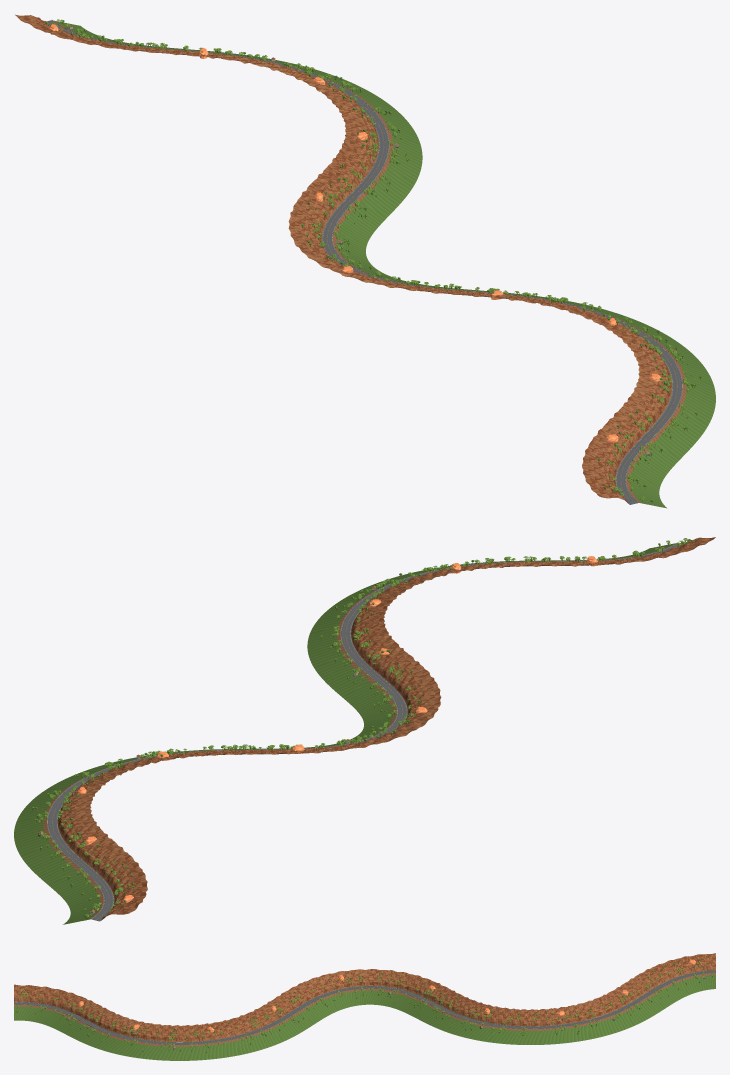
Rendered from roadCourse.glb.
The picture shows the model from 3 angles, top to bottom: view 1: azimuth 30°, elevation 25°; view 2: azimuth 150°, elevation 25°; view 3: azimuth 270°, elevation 25°; orthographic projection. The views are drawn at different scales.
Visible parts, largest first — view 1: RoadsideTerrain.008, RoadsideTerrain.018, RoadsideTerrain.009, RoadsideTerrain.019, RoadsideTerrain.007, RoadsideTerrain.017, RoadsideTerrain.020, RoadsideTerrain.010, RoadsideTerrain.016, RoadsideTerrain.006, RoadsideTerrain.015, RoadsideTerrain.005 (+2 smaller); view 2: RoadsideTerrain.003, RoadsideTerrain.002, RoadsideTerrain.013, RoadsideTerrain.012, RoadsideTerrain.014, RoadsideTerrain.004, RoadsideTerrain.011, RoadsideTerrain.001, RoadsideTerrain.015, RoadsideTerrain.005, RoadsideTerrain.006, RoadsideTerrain.016 (+2 smaller); view 3: RoadsideTerrain.015, RoadsideTerrain.006, RoadsideTerrain.005, RoadsideTerrain.016, RoadsideTerrain.011, RoadsideTerrain.004, RoadsideTerrain.014, RoadsideTerrain.001, RoadsideTerrain.020, RoadsideTerrain.010, RoadsideTerrain.007, RoadsideTerrain.017 (+8 smaller).
Part boxes in pixels (box(x1,y1,x2,y2)): RoadsideTerrain.008: box(317, 149, 414, 217); RoadsideTerrain.018: box(610, 390, 708, 458); RoadsideTerrain.009: box(290, 178, 386, 244); RoadsideTerrain.019: box(585, 418, 680, 486); RoadsideTerrain.007: box(341, 121, 422, 183); RoadsideTerrain.017: box(634, 363, 715, 424); RoadsideTerrain.020: box(582, 455, 666, 508); RoadsideTerrain.010: box(288, 213, 373, 266); RoadsideTerrain.016: box(620, 336, 713, 384); RoadsideTerrain.006: box(326, 95, 420, 143); RoadsideTerrain.015: box(581, 313, 684, 347); RoadsideTerrain.005: box(289, 72, 391, 106); RoadsideTerrain.003: box(21, 822, 117, 885); RoadsideTerrain.002: box(49, 846, 145, 907); RoadsideTerrain.013: box(315, 634, 412, 697); RoadsideTerrain.012: box(343, 657, 438, 719); RoadsideTerrain.014: box(307, 612, 388, 668); RoadsideTerrain.004: box(14, 801, 95, 856); RoadsideTerrain.011: box(356, 688, 441, 736); RoadsideTerrain.001: box(63, 877, 147, 924); RoadsideTerrain.015: box(309, 591, 404, 634); RoadsideTerrain.005: box(16, 779, 109, 822); RoadsideTerrain.006: box(45, 762, 148, 790); RoadsideTerrain.016: box(338, 573, 440, 602); RoadsideTerrain.015: box(189, 1021, 240, 1060); RoadsideTerrain.006: box(489, 1008, 540, 1044); RoadsideTerrain.005: box(540, 1005, 591, 1044); RoadsideTerrain.016: box(138, 1024, 189, 1060); RoadsideTerrain.011: box(311, 969, 364, 1010); RoadsideTerrain.004: box(574, 995, 634, 1038); RoadsideTerrain.014: box(224, 1011, 283, 1054); RoadsideTerrain.001: box(662, 953, 715, 994); RoadsideTerrain.020: box(14, 984, 67, 1023); RoadsideTerrain.010: box(365, 969, 419, 1007); RoadsideTerrain.007: box(446, 1002, 506, 1042); RoadsideTerrain.017: box(95, 1017, 154, 1057).
Bounding box in the file's own units: 292 × 97.37 × 1284.
Materials: 3 (1 with a texture image).
